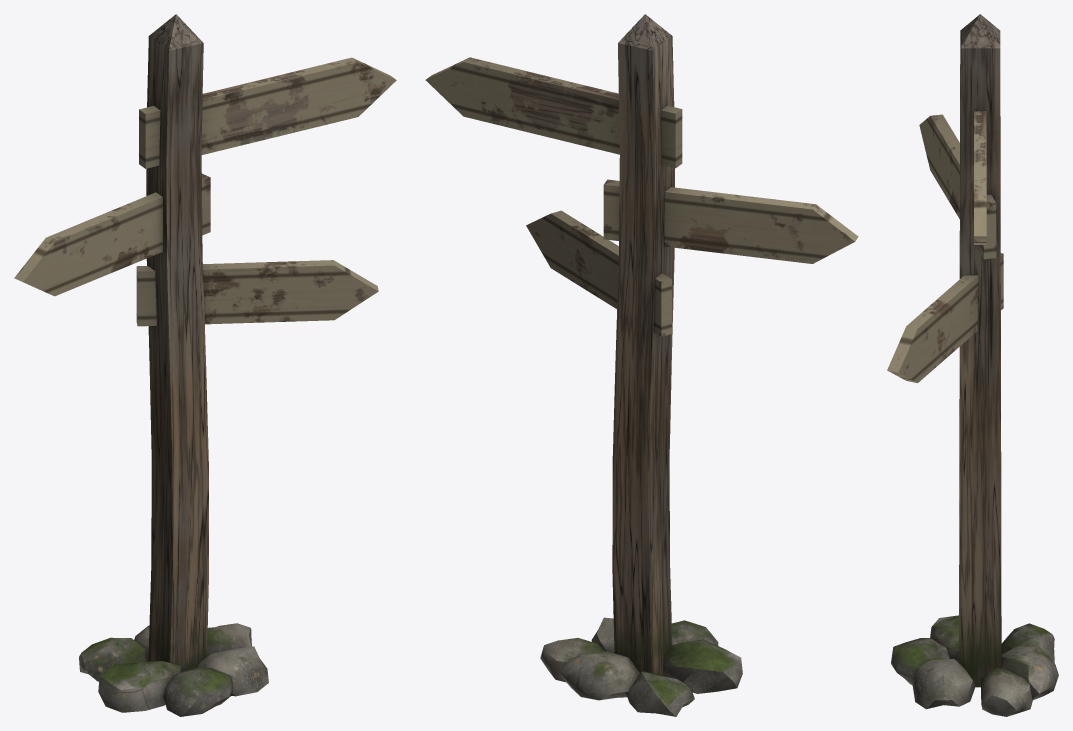
Rendered from fm_signpost.glb.
The picture shows the model from 3 angles, left to right: view 1: azimuth 30°, elevation 25°; view 2: azimuth 150°, elevation 25°; view 3: azimuth 270°, elevation 25°; orthographic projection.
Parts seen in each view (by area): view 1: fm_signpost; view 2: fm_signpost; view 3: fm_signpost.
Part boxes in pixels (left/top/right/bottom): fm_signpost: left=14, top=14, right=396, bottom=716; fm_signpost: left=425, top=14, right=858, bottom=716; fm_signpost: left=887, top=14, right=1058, bottom=716.
Size of the model in its own units: 1.16 by 1.83 by 0.4276.
1 material, 1 textured.
